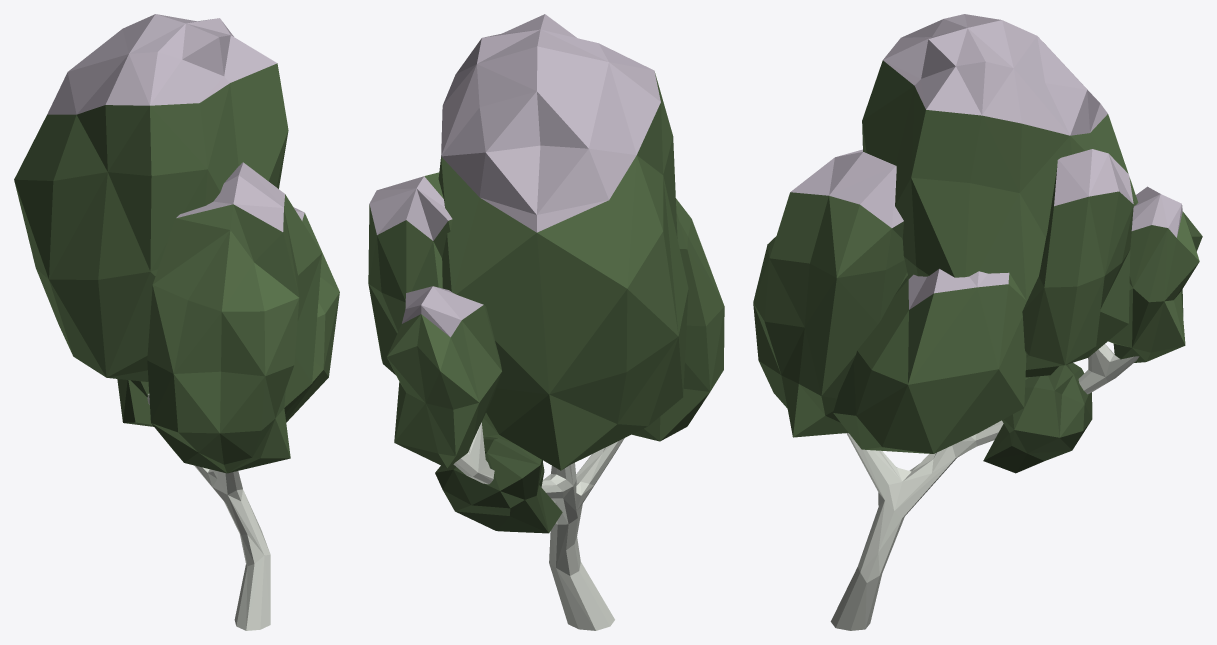
File: BirchTree_Snow_1.lod1.glb
3 renders of one model, left to right at view 1: azimuth 30°, elevation 25°; view 2: azimuth 150°, elevation 25°; view 3: azimuth 270°, elevation 25°, orthographic. The views are drawn at different scales.
Visible parts, largest first — view 1: BirchTree_Snow_1; view 2: BirchTree_Snow_1; view 3: BirchTree_Snow_1.
Boxes of the visible parts, bbox=[...] form: BirchTree_Snow_1: bbox=[14, 14, 339, 630]; BirchTree_Snow_1: bbox=[368, 14, 724, 630]; BirchTree_Snow_1: bbox=[753, 14, 1202, 630].
Size of the model in its own units: 1.7 by 3.59 by 2.48.
